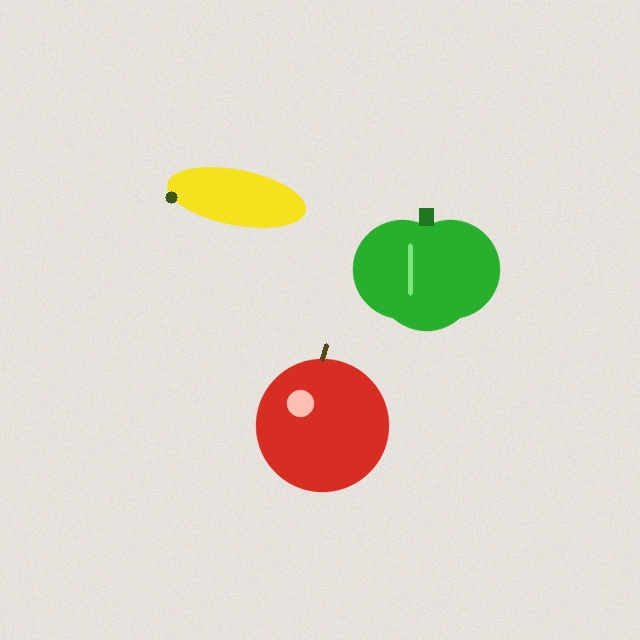Fresh apple: (256, 345, 388, 491)
Fresh banana: (163, 164, 309, 230)
Fresh bell pepper: (353, 208, 499, 330)
